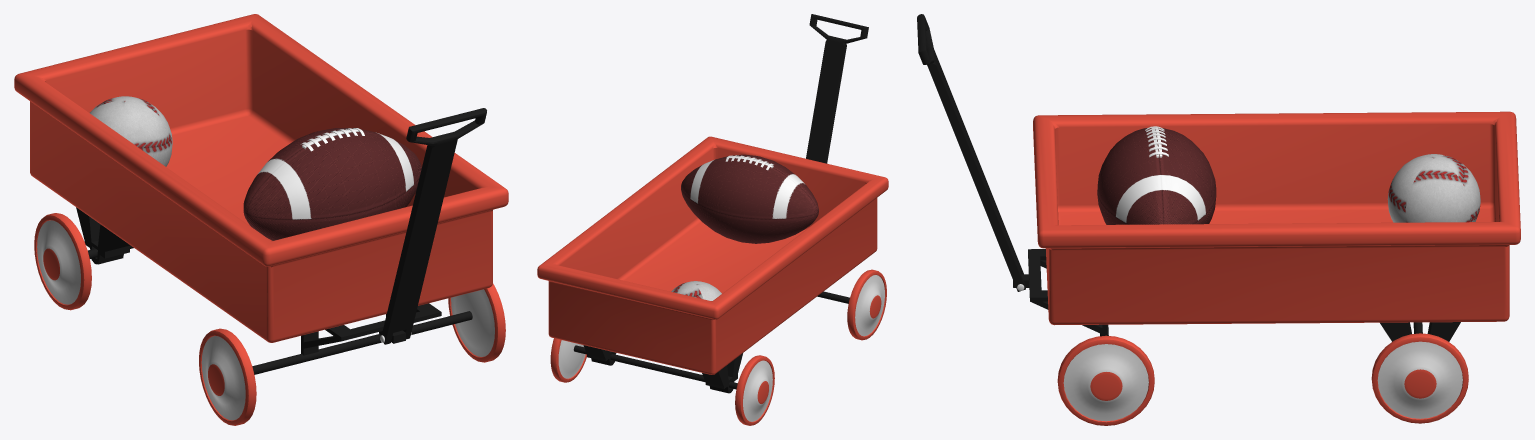
File: carrellino.fbx
3 renders of one model, left to right at view 1: azimuth 30°, elevation 25°; view 2: azimuth 150°, elevation 25°; view 3: azimuth 270°, elevation 25°, orthographic. The views are drawn at different scales.
Parts seen in each view (by area): view 1: Back wheels, Football, Volleyball; view 2: Back wheels, Football, Volleyball; view 3: Back wheels, Football, Volleyball.
Part boxes in pixels (left/top/right/bottom): Back wheels: left=14, top=14, right=508, bottom=425; Football: left=243, top=128, right=421, bottom=240; Volleyball: left=90, top=96, right=172, bottom=166; Back wheels: left=537, top=14, right=888, bottom=425; Football: left=681, top=154, right=818, bottom=243; Volleyball: left=671, top=281, right=721, bottom=300; Back wheels: left=917, top=14, right=1520, bottom=425; Football: left=1097, top=126, right=1216, bottom=224; Volleyball: left=1387, top=154, right=1480, bottom=222.
Size of the model in its own units: 256 by 295 by 484.
Materials: 6 (2 with a texture image).
